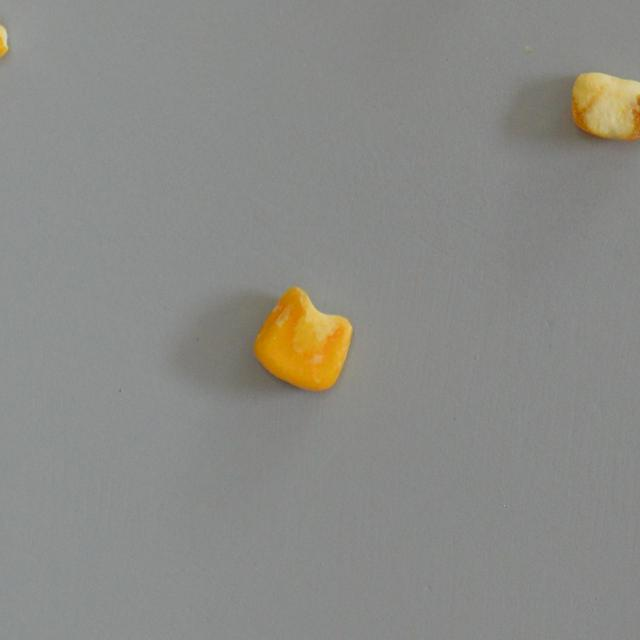dañado: (248, 283, 362, 392), (562, 50, 640, 159)
